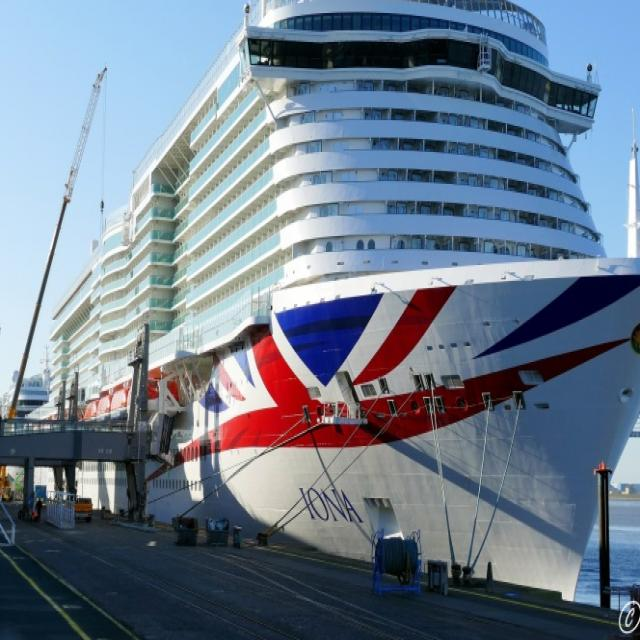cruises: (34, 1, 640, 622)
